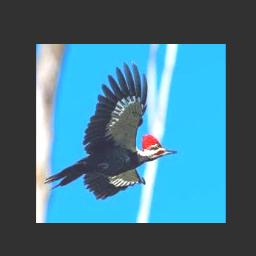Woodpecker: (44, 61, 177, 199)
